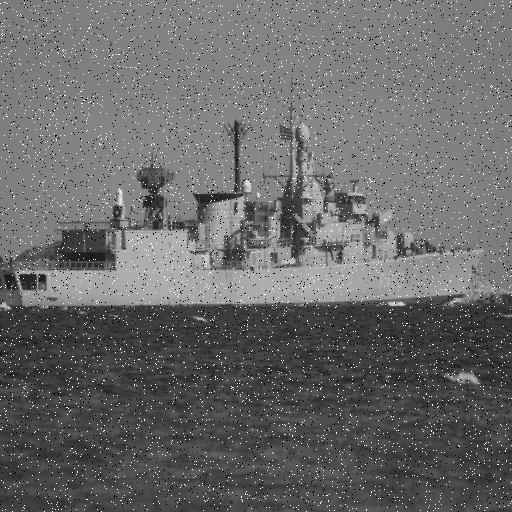Fragata: (1, 74, 490, 317)
